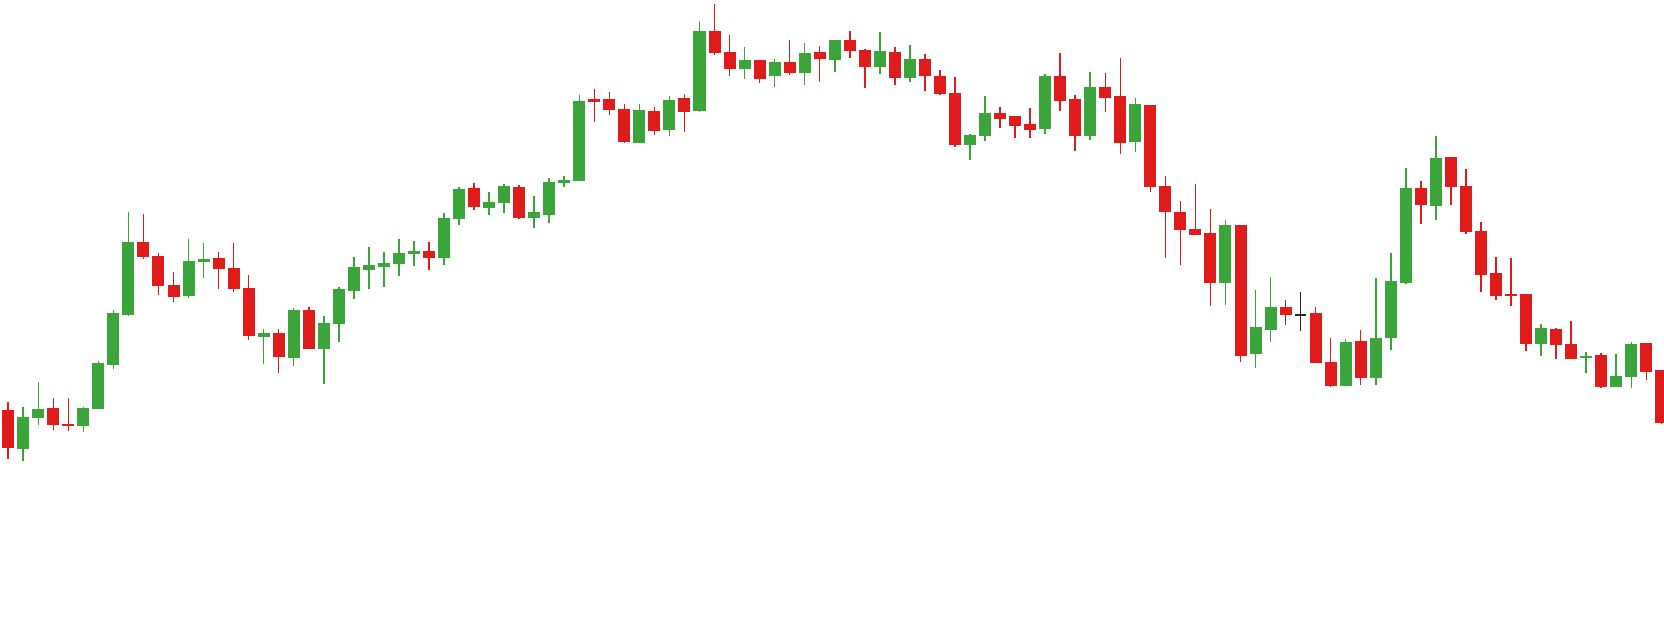buy: (1235, 283, 1356, 393)
